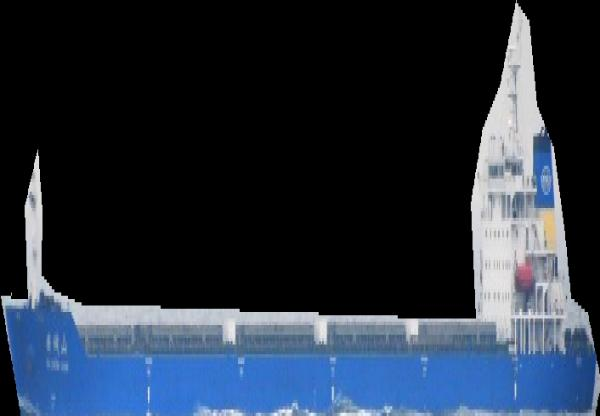Bulkers: (1, 1, 600, 416)
